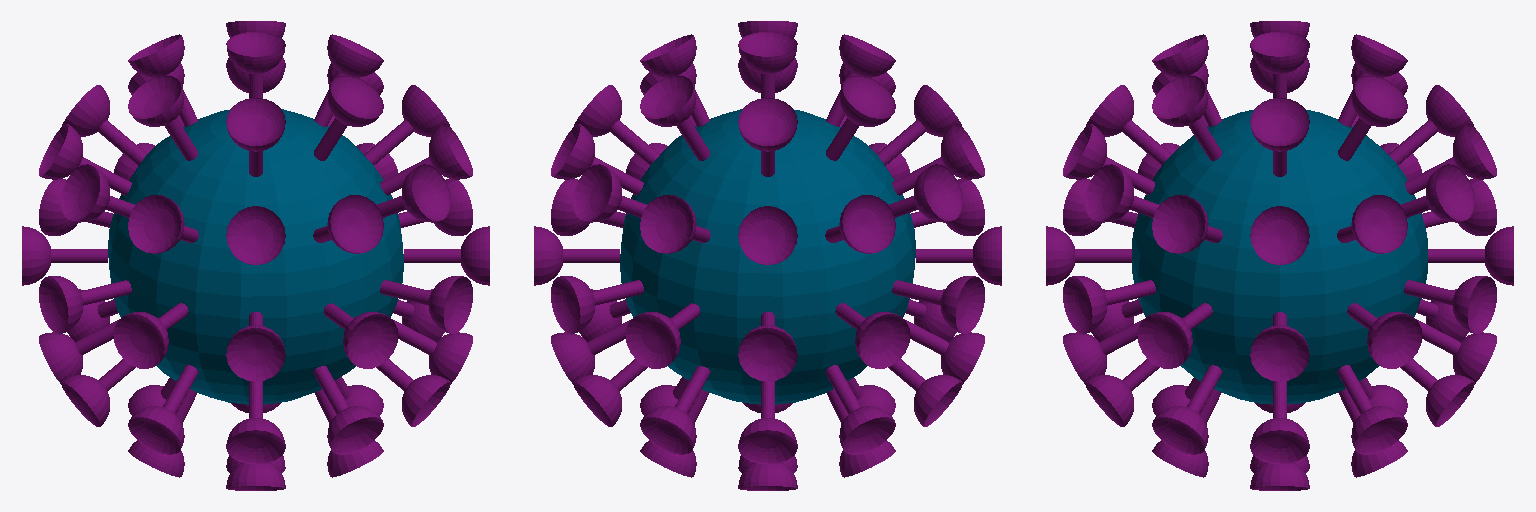
The model's file is AntiVir_Fighter_3.obj.
3 views of the same model, side by side, from view 1: azimuth 30°, elevation 25°; view 2: azimuth 150°, elevation 25°; view 3: azimuth 270°, elevation 25° (orthographic).
Parts seen in each view (by area): view 1: pSphere1, polySurface63 polySurface113, polySurface63 polySurface137, polySurface63 polySurface91, polySurface63 polySurface111, polySurface63 polySurface89, polySurface63 polySurface115, polySurface63 polySurface135, polySurface63 polySurface93, polySurface63 polySurface109, polySurface63 polySurface69, polySurface63 polySurface85 (+28 smaller); view 2: pSphere1, polySurface63 polySurface105, polySurface63 polySurface129, polySurface63 polySurface103, polySurface63 polySurface107, polySurface63 polySurface81, polySurface63 polySurface127, polySurface63 polySurface131, polySurface63 polySurface101, polySurface63 polySurface109, polySurface63 polySurface77, polySurface63 polySurface85 (+28 smaller); view 3: pSphere1, polySurface63 polySurface97, polySurface63 polySurface121, polySurface63 polySurface95, polySurface63 polySurface99, polySurface63 polySurface73, polySurface63 polySurface119, polySurface63 polySurface123, polySurface63 polySurface93, polySurface63 polySurface101, polySurface63 polySurface69, polySurface63 polySurface77 (+28 smaller).
Boxes of the visible parts, x1,y1,x2,y2 form: pSphere1: [108, 109, 403, 404]; polySurface63 polySurface113: [226, 206, 285, 264]; polySurface63 polySurface137: [226, 325, 285, 381]; polySurface63 polySurface91: [327, 195, 383, 253]; polySurface63 polySurface111: [128, 195, 184, 253]; polySurface63 polySurface89: [226, 98, 285, 151]; polySurface63 polySurface115: [343, 312, 398, 368]; polySurface63 polySurface135: [113, 312, 168, 368]; polySurface63 polySurface93: [402, 164, 450, 222]; polySurface63 polySurface109: [61, 164, 109, 222]; polySurface63 polySurface69: [327, 76, 383, 126]; polySurface63 polySurface85: [128, 76, 184, 126]; pSphere1: [620, 109, 915, 404]; polySurface63 polySurface105: [738, 206, 797, 264]; polySurface63 polySurface129: [738, 325, 797, 381]; polySurface63 polySurface103: [640, 195, 696, 253]; polySurface63 polySurface107: [839, 195, 895, 253]; polySurface63 polySurface81: [738, 98, 797, 151]; polySurface63 polySurface127: [625, 312, 680, 368]; polySurface63 polySurface131: [855, 312, 910, 368]; polySurface63 polySurface101: [573, 164, 621, 222]; polySurface63 polySurface109: [914, 164, 962, 222]; polySurface63 polySurface77: [640, 76, 696, 126]; polySurface63 polySurface85: [839, 76, 895, 126]; pSphere1: [1132, 109, 1427, 404]; polySurface63 polySurface97: [1250, 206, 1309, 264]; polySurface63 polySurface121: [1250, 325, 1309, 381]; polySurface63 polySurface95: [1152, 195, 1208, 253]; polySurface63 polySurface99: [1351, 195, 1407, 253]; polySurface63 polySurface73: [1250, 98, 1309, 151]; polySurface63 polySurface119: [1137, 312, 1192, 368]; polySurface63 polySurface123: [1367, 312, 1422, 368]; polySurface63 polySurface93: [1085, 164, 1133, 222]; polySurface63 polySurface101: [1426, 164, 1474, 222]; polySurface63 polySurface69: [1152, 76, 1208, 126]; polySurface63 polySurface77: [1351, 76, 1407, 126].
Size of the model in its own units: 3.13 by 3.13 by 3.13.